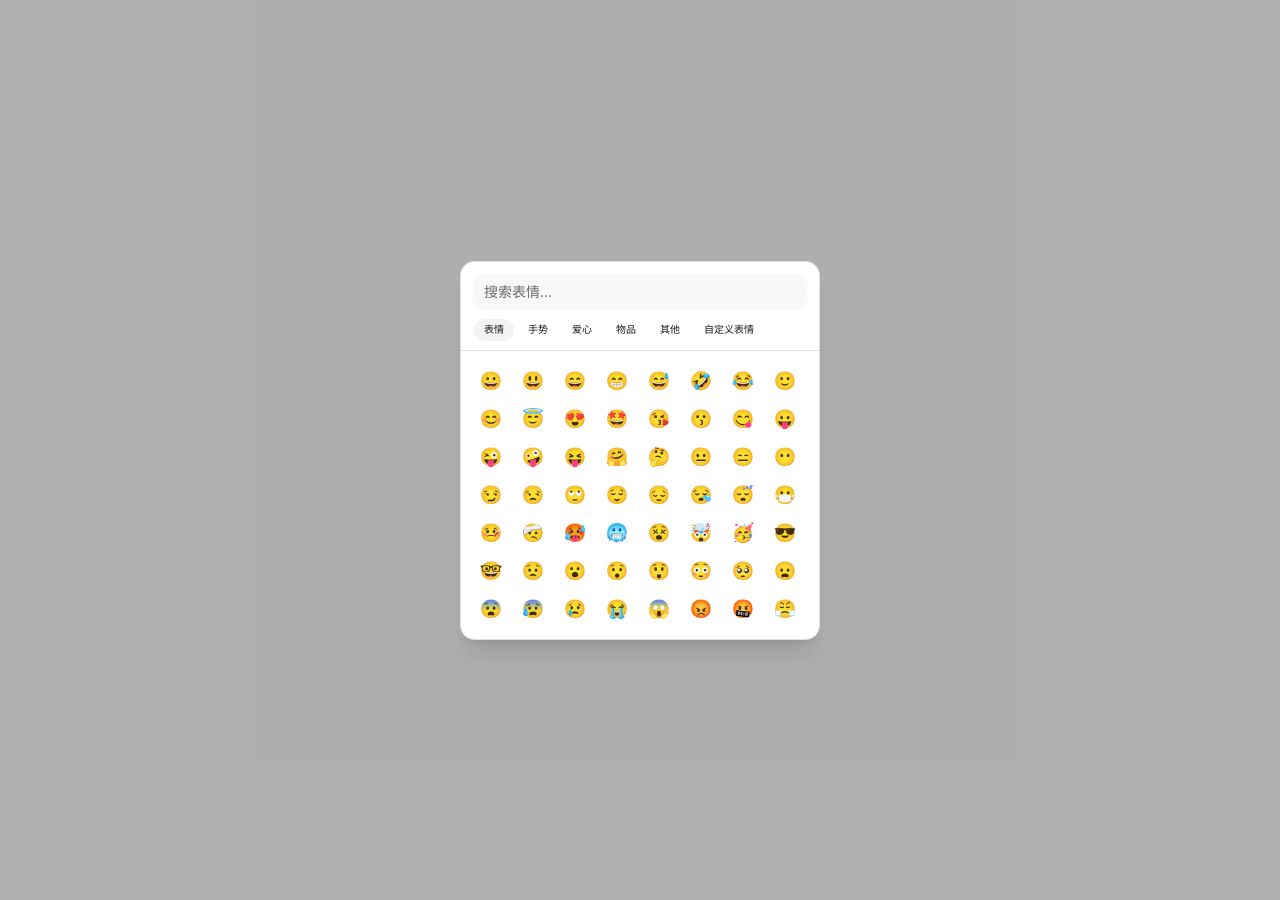
Test case: EmojiPicker › switching to Objects category shows object emojis and hides smileys
Click the button "物品" at point(626, 330), box [605,318,647,342]
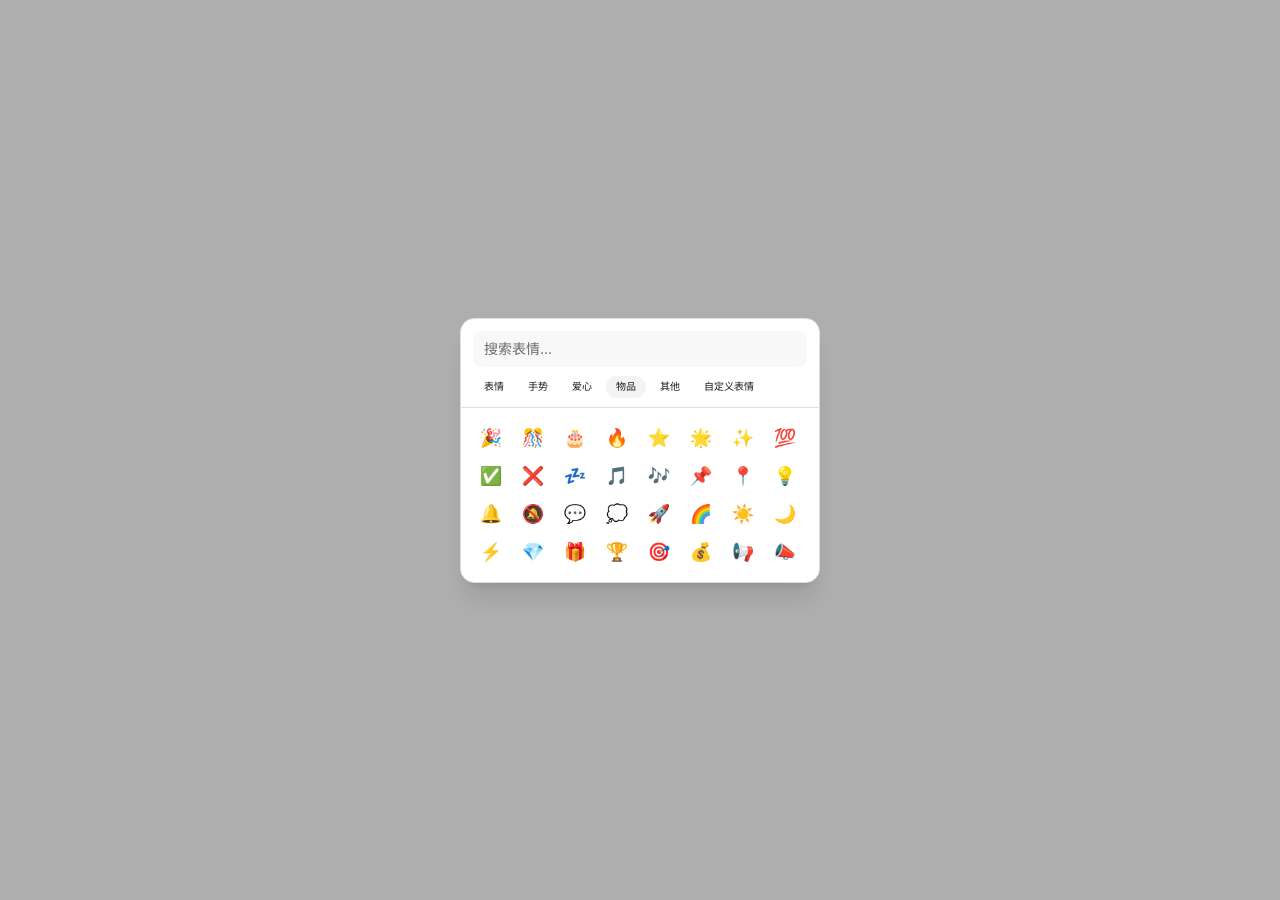
Result: the button "🎉" is shown at [473,420,509,456]
Result: the button "🔥" is shown at [599,420,635,456]
Result: the button "😀" is gone
